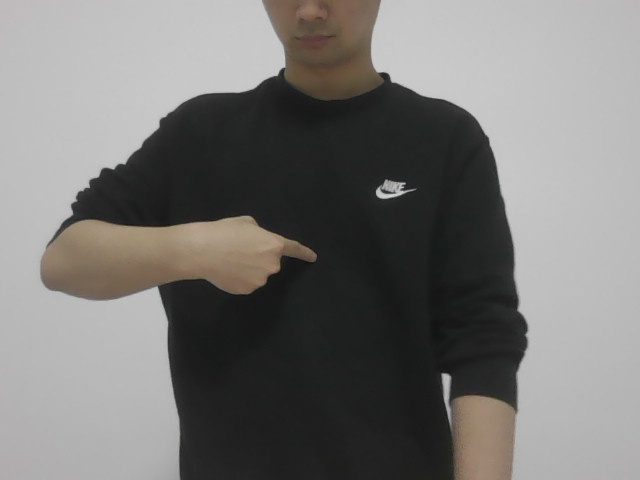I/me: (184, 210, 327, 304)
